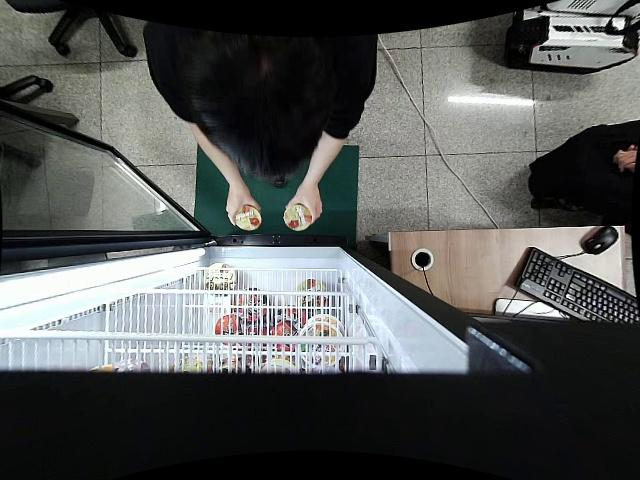00_hand: (284, 185, 324, 227), (225, 185, 261, 227)
04_chapagetti_S: (284, 204, 312, 231), (235, 204, 261, 230)
